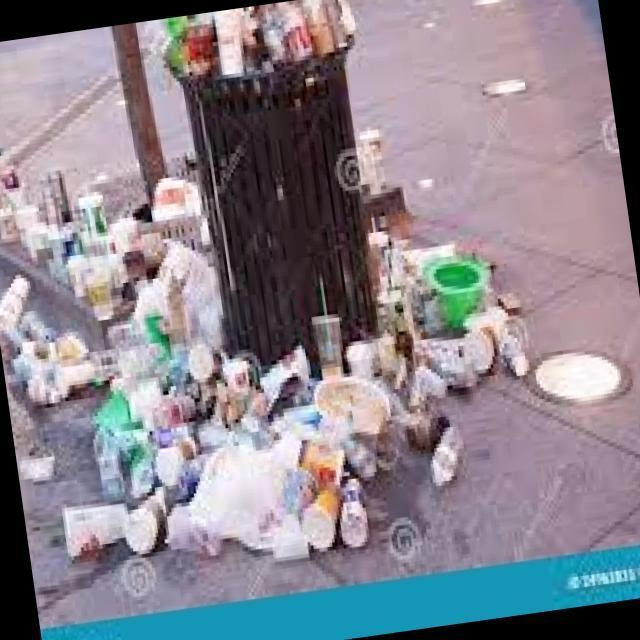garbage: (7, 0, 420, 552)
